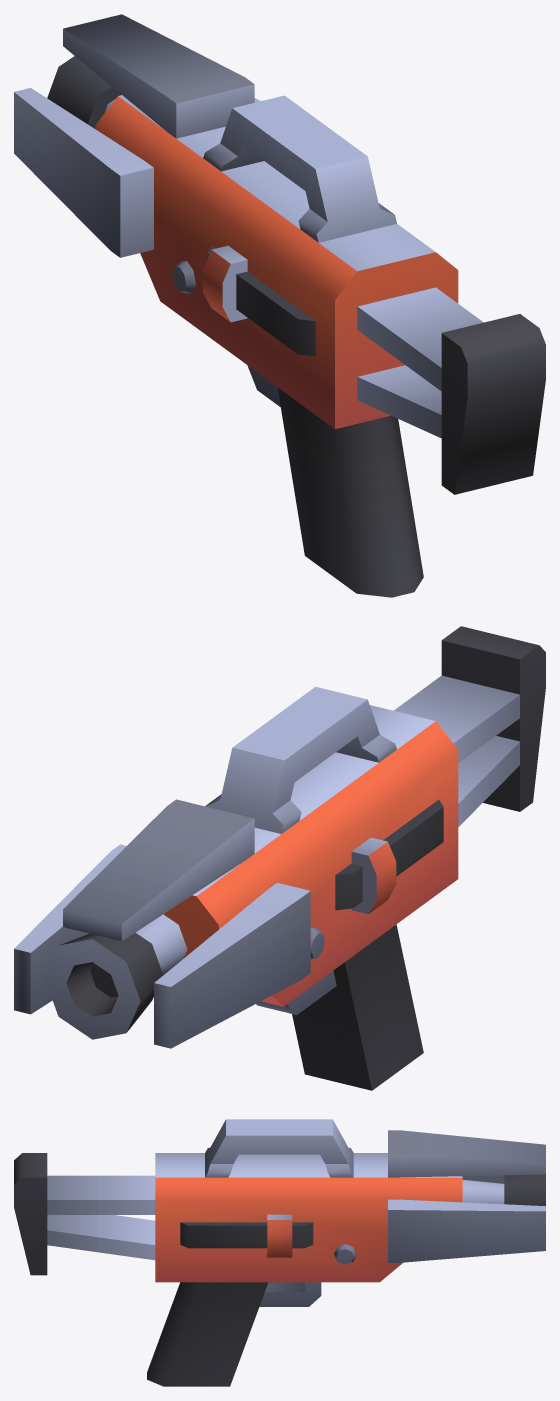
Rendered from kenney-blaster-blaster-n.glb.
The picture shows the model from 3 angles, top to bottom: view 1: azimuth 30°, elevation 25°; view 2: azimuth 150°, elevation 25°; view 3: azimuth 270°, elevation 25°; orthographic projection. The views are drawn at different scales.
Visible parts, largest first — view 1: blaster-n; view 2: blaster-n; view 3: blaster-n.
Part boxes in pixels (left/top/right/bottom): blaster-n: left=14, top=14, right=545, bottom=597; blaster-n: left=14, top=626, right=545, bottom=1090; blaster-n: left=14, top=1119, right=545, bottom=1386.
Bounding box in the file's own units: 0.17 × 0.33 × 0.6401.
1 material, 1 textured.
